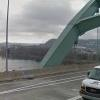Bridge: (4, 59, 78, 83)
